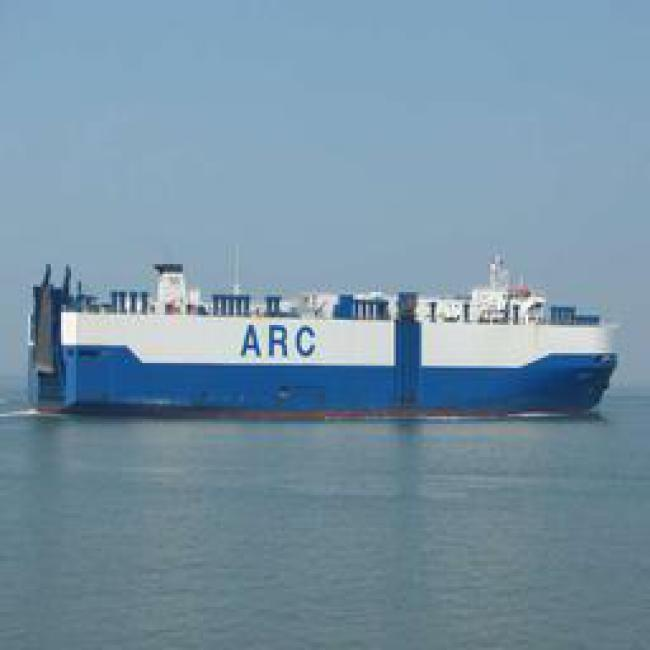Ship: (44, 270, 644, 426)
